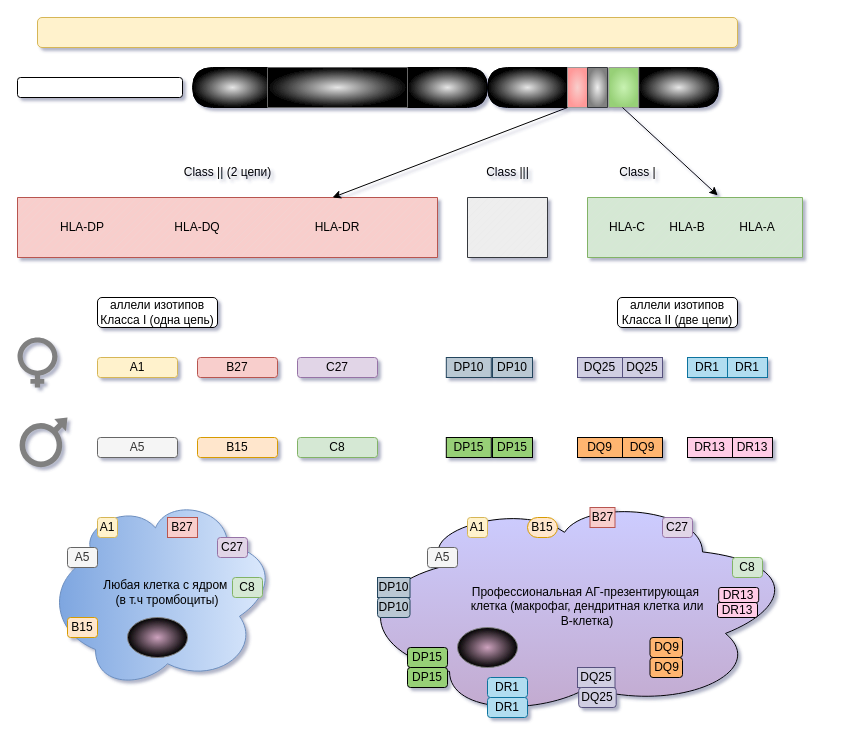
The diagram is 841 pixels wide and 741 high, and some of its shapes have lost their labels. Here are the shapes that lost their labels. From the top down, the centre of each, then its label:
(387,32): Локусы генов, кодирующих молекулы классов |, ||, |||
(99,87): хромосома 6
